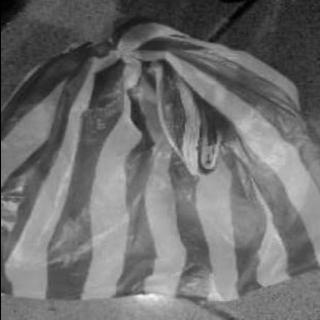objects: (0, 16, 320, 300)
